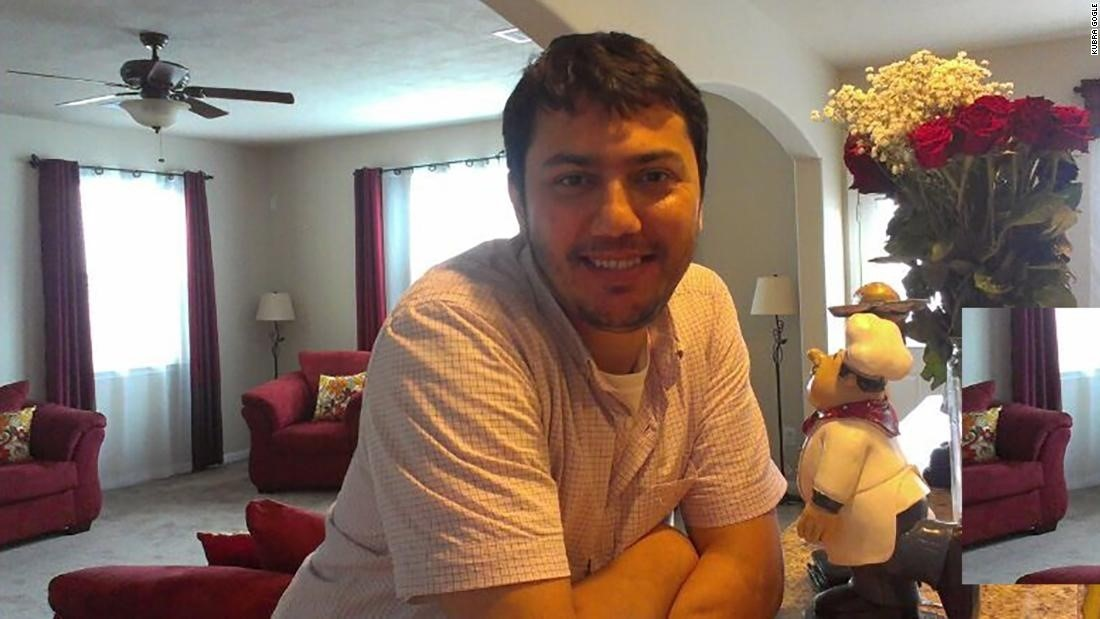face_no_mask: (503, 34, 707, 330)
